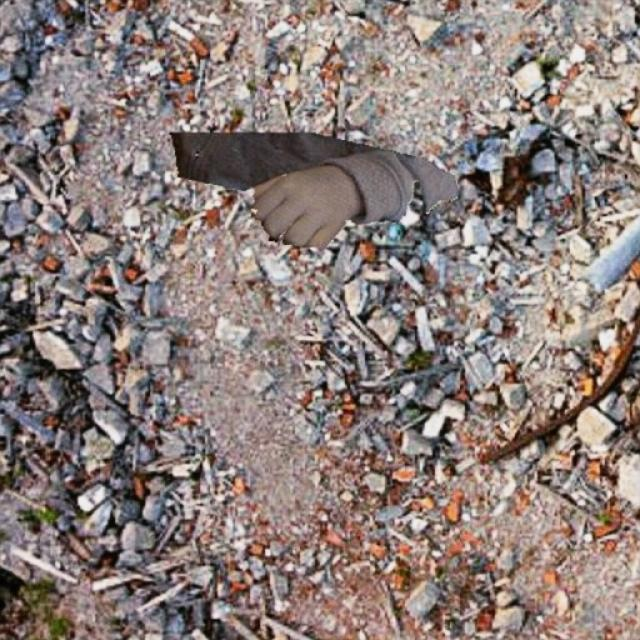Person in Rubble: (168, 132, 456, 246)
